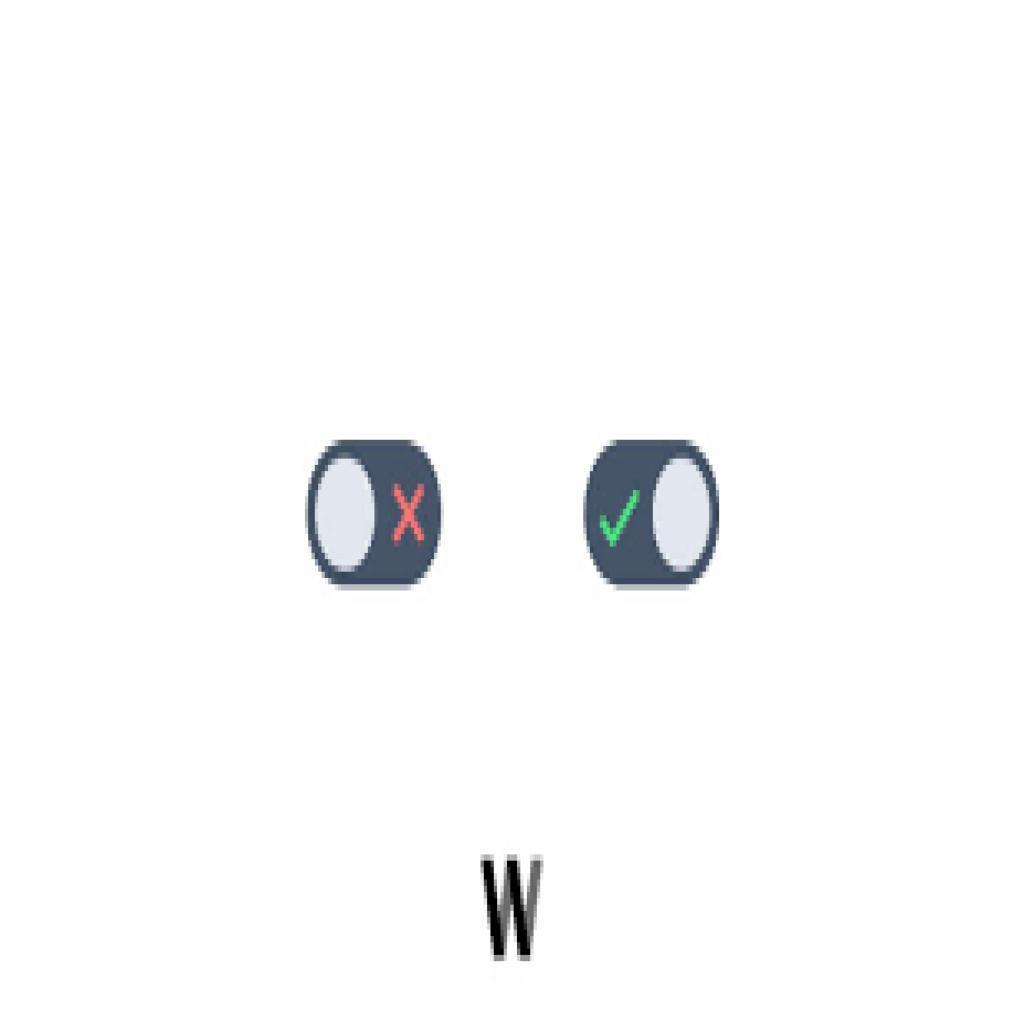switch: (583, 440, 721, 594), (308, 441, 442, 589)
